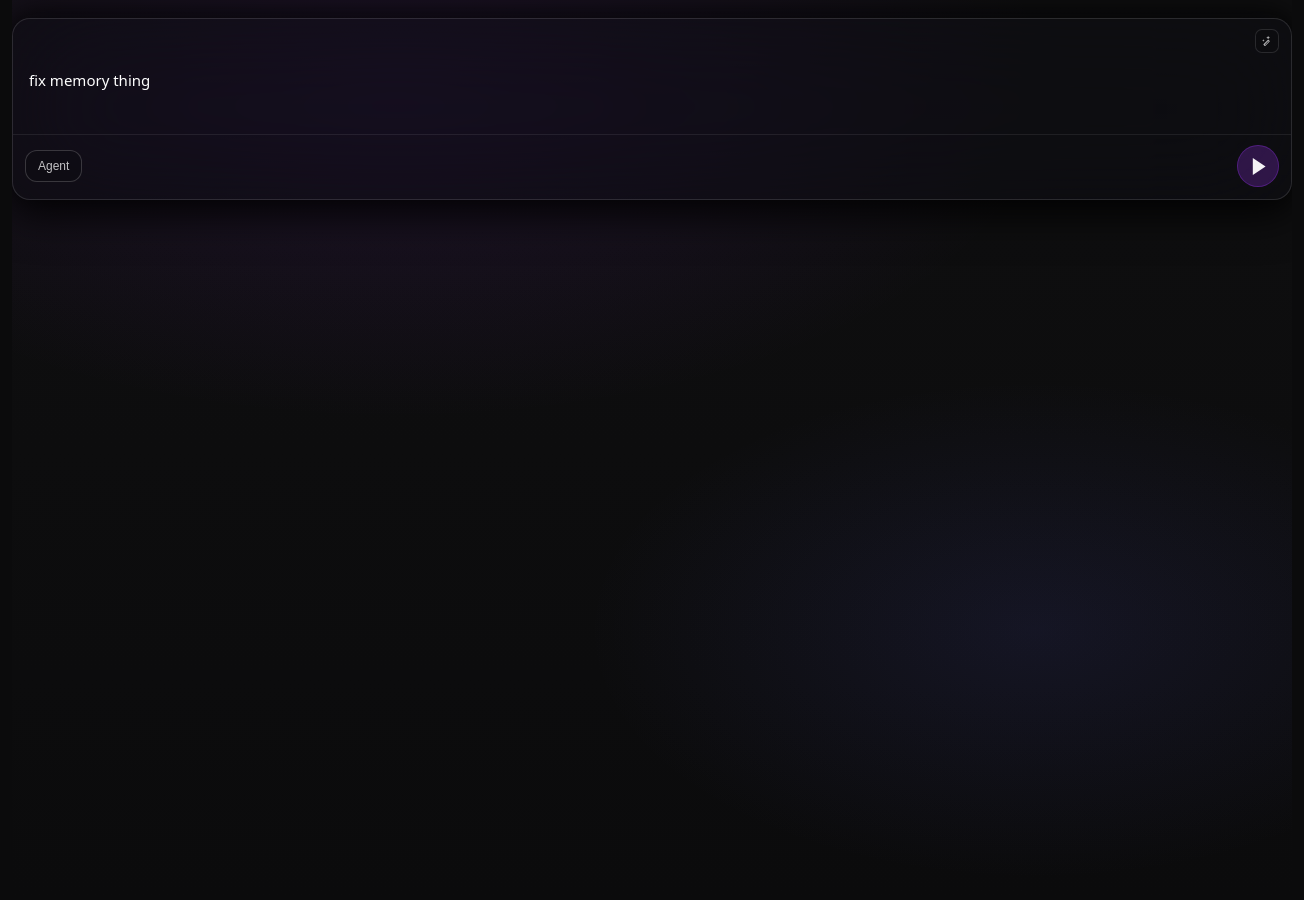
enhance reports a missing model instead of silently doing nothing
The image size is (1304, 900).
Click the button with test id "composer-enhance-btn": x=1267, y=41 [1255,29,1279,53]
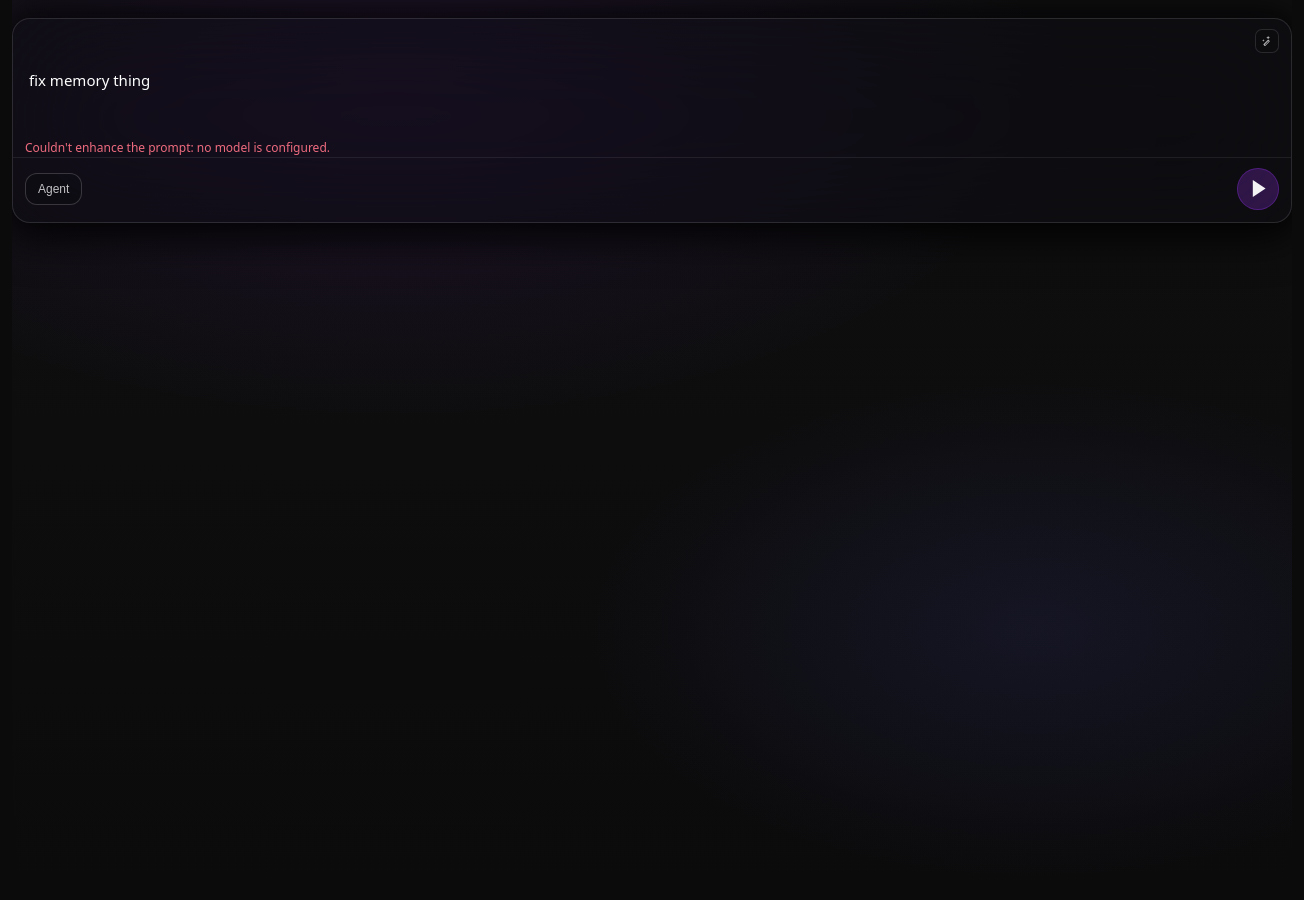
Check: the message with test id "composer-enhance-err" shows "no model is configured", box [25,139,330,156]
